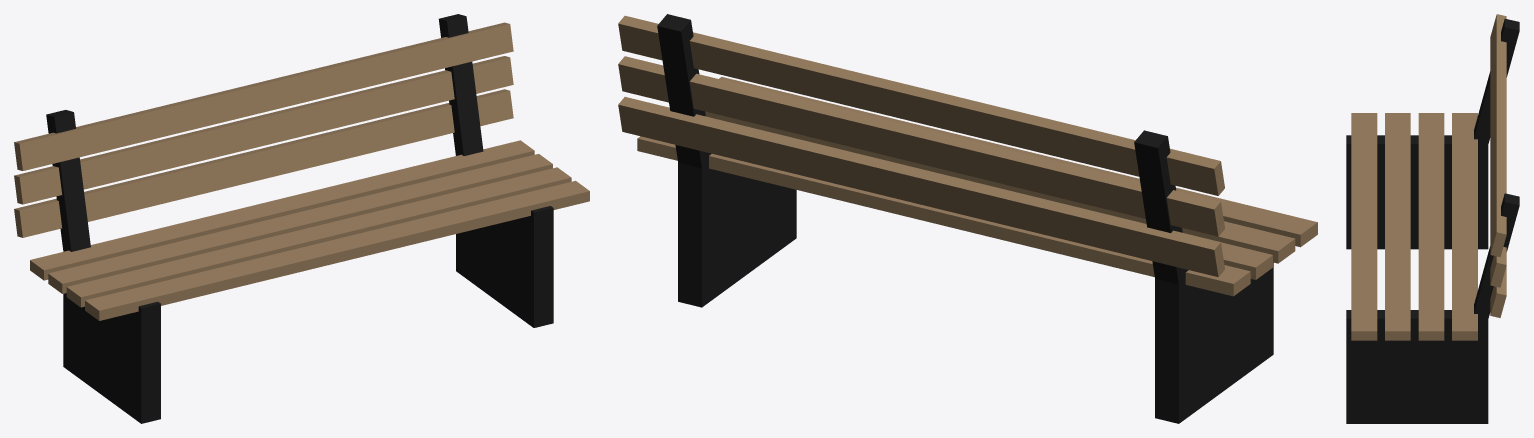
The model's file is bank.glb.
The picture shows the model from 3 angles, left to right: view 1: azimuth 30°, elevation 25°; view 2: azimuth 150°, elevation 25°; view 3: azimuth 270°, elevation 25°; orthographic projection. The views are drawn at different scales.
Parts seen in each view (by area): view 1: Bank; view 2: Bank; view 3: Bank.
Part boxes in pixels (bbox=[...]): Bank: bbox=[14, 14, 589, 423]; Bank: bbox=[618, 14, 1317, 423]; Bank: bbox=[1346, 14, 1519, 423].
Size of the model in its own units: 2 by 0.9483 by 0.6719.
